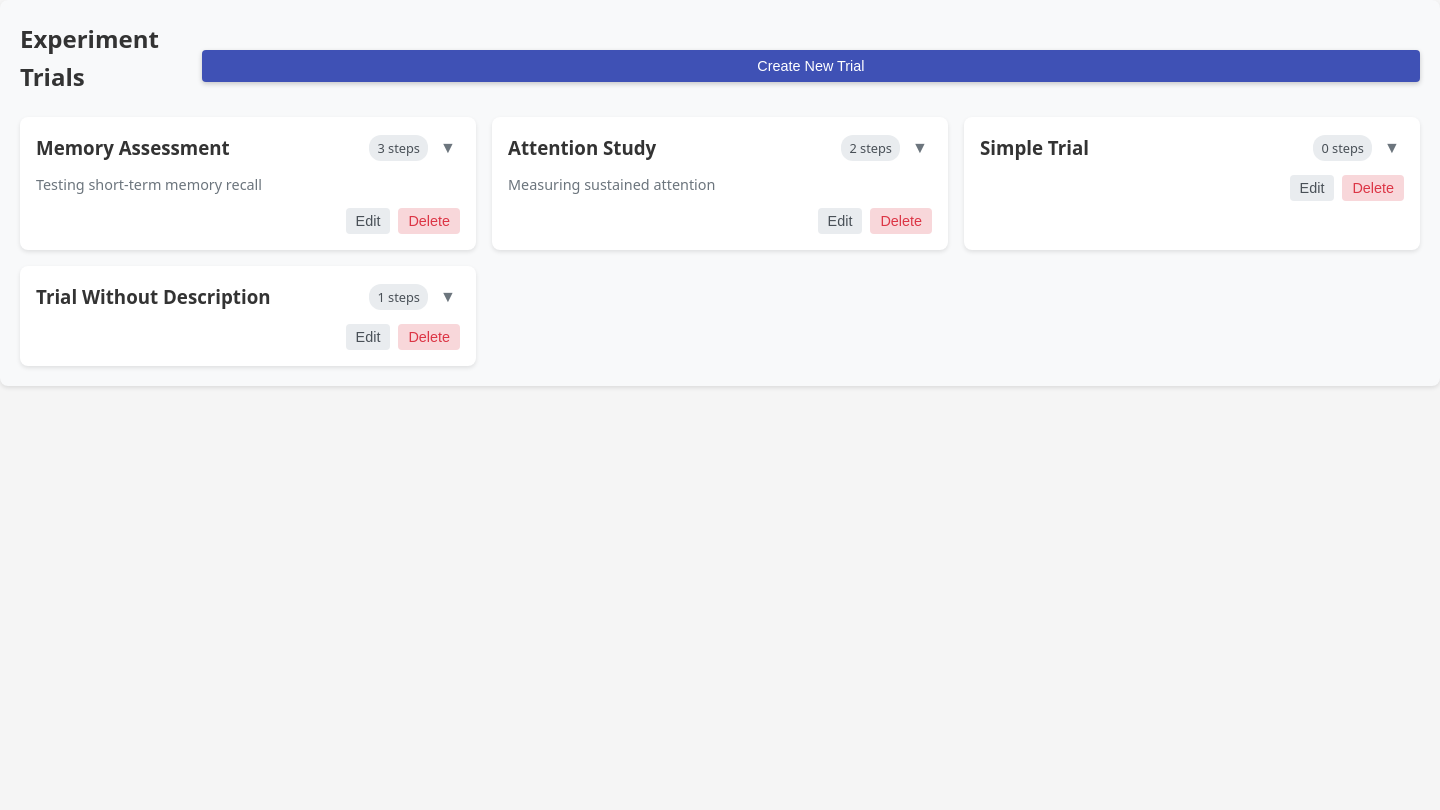
it: TrialList Component › Expand/Collapse Functionality › collapses trial when collapse button is clicked
The image size is (1440, 810).
// Expand first
Step 1. Click the button "▼" in the row of "Memory Assessment" → (448, 148), box [436,136,460,160]
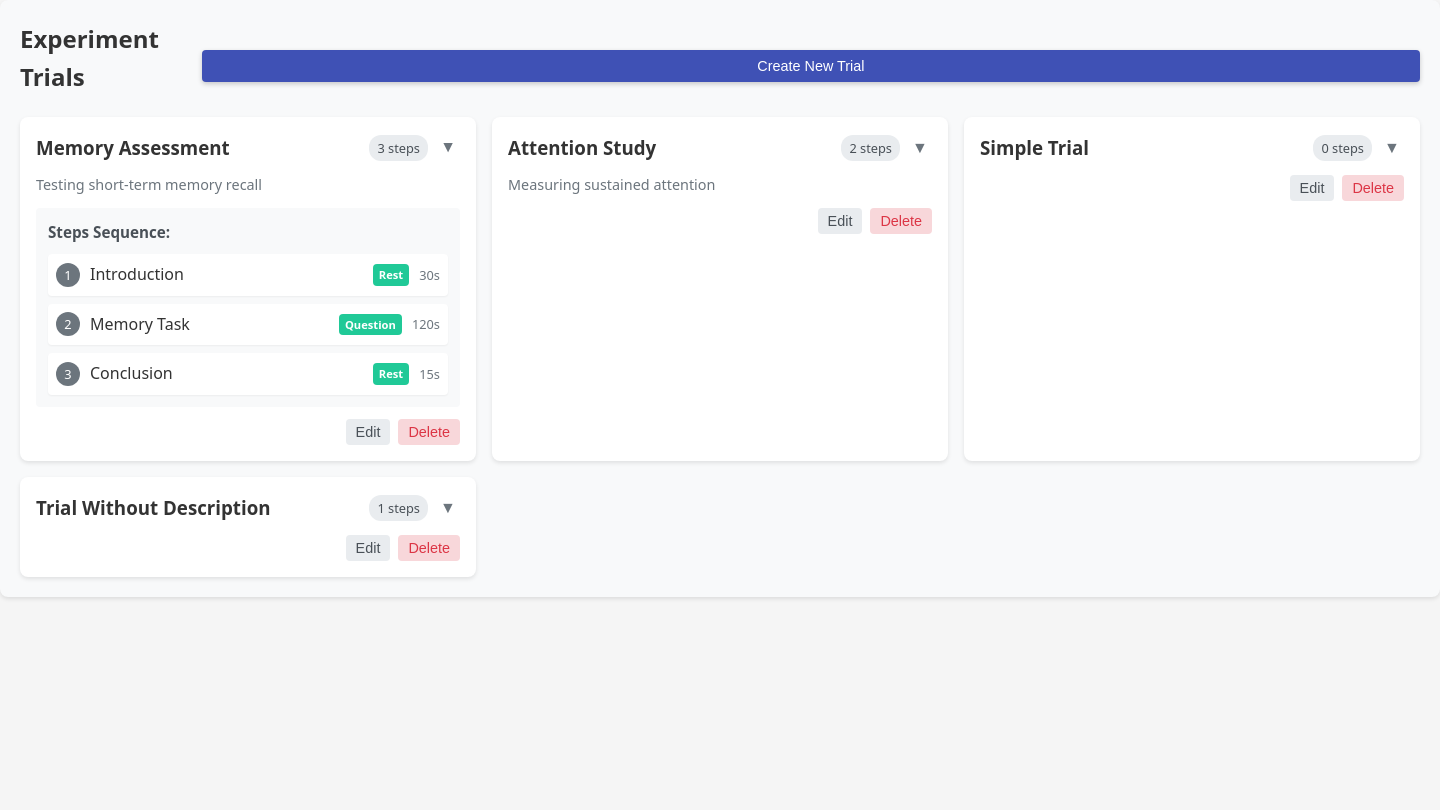
Expected: the text "Introduction" is shown, [90,263,184,285]
Step 2. Click the button "▲" → (448, 148), box [436,136,460,160]
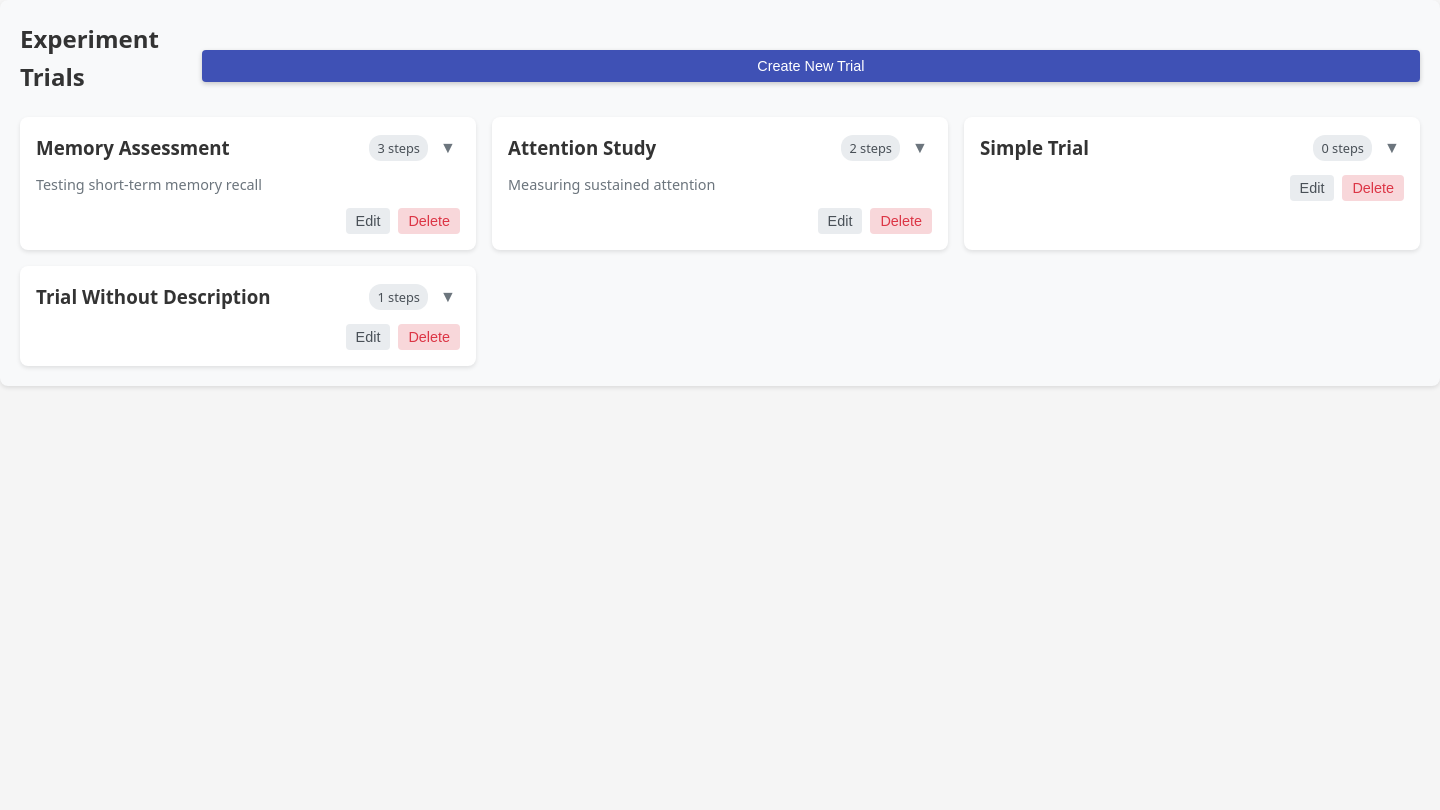
Expected: the text "Introduction" is gone
